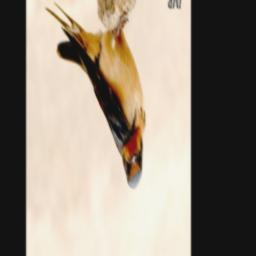Swallow: (45, 0, 146, 191)
